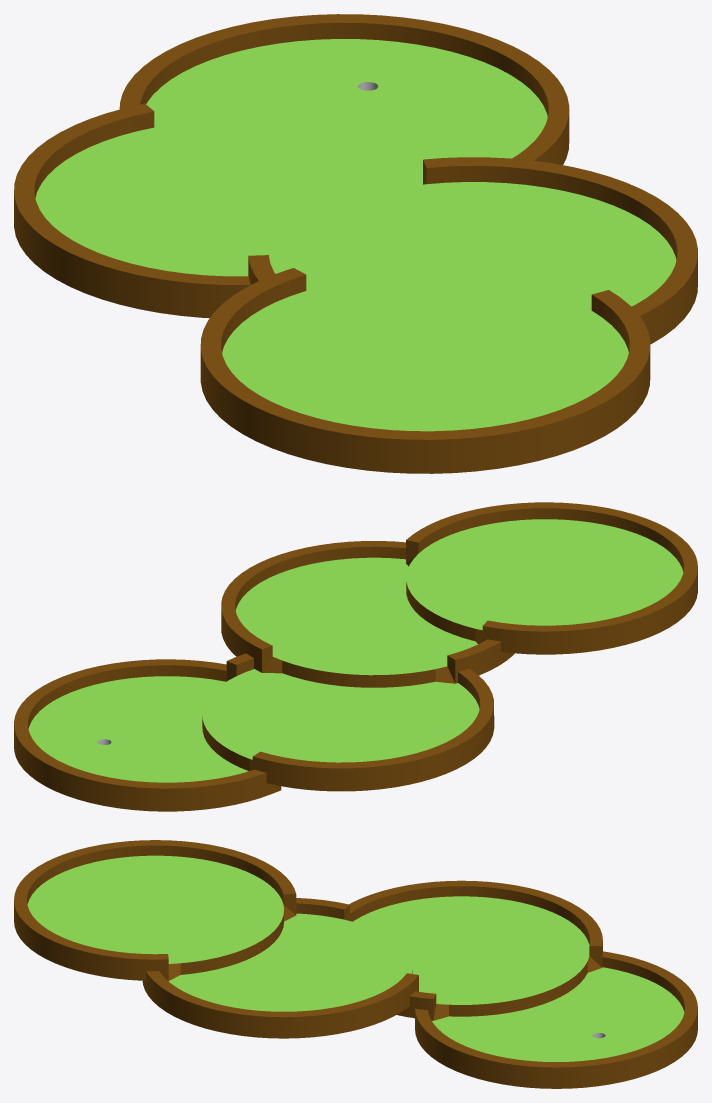
File: hole7.fbx
3 views of the same model, one above another, from view 1: azimuth 30°, elevation 25°; view 2: azimuth 150°, elevation 25°; view 3: azimuth 270°, elevation 25° (orthographic). The views are drawn at different scales.
Parts seen in each view (by area): view 1: hole7_plane1; view 2: hole7_plane1; view 3: hole7_plane1.
Boxes of the visible parts, x1=… form: hole7_plane1: x1=14, y1=14, x2=697, y2=473; hole7_plane1: x1=14, y1=502, x2=697, y2=811; hole7_plane1: x1=14, y1=840, x2=697, y2=1088.
Bounding box in the file's own units: 354 × 48.7 × 532.
